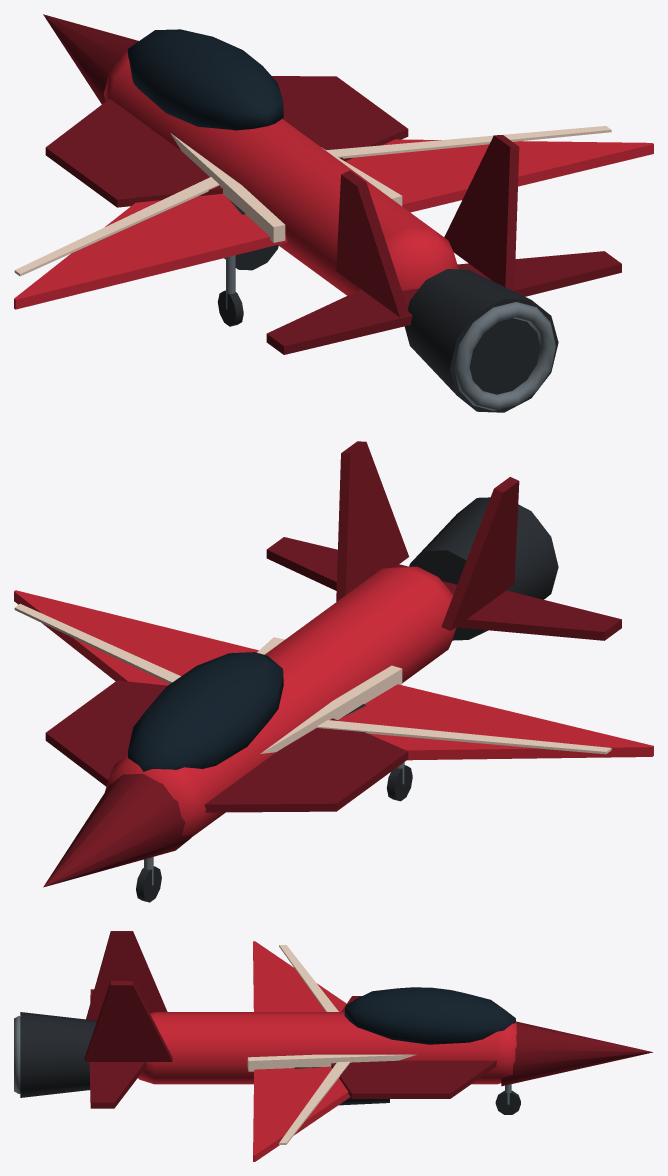
File: fighter.glb
The picture shows the model from 3 angles, top to bottom: view 1: azimuth 30°, elevation 25°; view 2: azimuth 150°, elevation 25°; view 3: azimuth 270°, elevation 25°; orthographic projection. The views are drawn at different scales.
Visible parts, largest first — view 1: AC_LIVERY_BASE, AC_LIVERY_PRIMARY, AC_DARK, AC_GLASS, AC_LIVERY_ACCENT, AC_METAL; view 2: AC_LIVERY_PRIMARY, AC_LIVERY_BASE, AC_GLASS, AC_DARK, AC_LIVERY_ACCENT; view 3: AC_LIVERY_BASE, AC_LIVERY_PRIMARY, AC_GLASS, AC_DARK, AC_LIVERY_ACCENT, AC_METAL.
Boxes of the visible parts, bbox=[...] form: AC_LIVERY_BASE: bbox=[14, 52, 653, 309]; AC_LIVERY_PRIMARY: bbox=[43, 14, 621, 354]; AC_DARK: bbox=[217, 198, 558, 412]; AC_GLASS: bbox=[128, 29, 283, 130]; AC_LIVERY_ACCENT: bbox=[14, 126, 611, 276]; AC_METAL: bbox=[226, 255, 555, 410]; AC_LIVERY_PRIMARY: bbox=[43, 441, 621, 887]; AC_LIVERY_BASE: bbox=[14, 566, 653, 836]; AC_GLASS: bbox=[128, 652, 283, 771]; AC_DARK: bbox=[136, 497, 558, 902]; AC_LIVERY_ACCENT: bbox=[14, 603, 611, 754]; AC_LIVERY_BASE: bbox=[138, 941, 516, 1161]; AC_LIVERY_PRIMARY: bbox=[84, 931, 652, 1108]; AC_GLASS: bbox=[344, 987, 515, 1044]; AC_DARK: bbox=[20, 1012, 520, 1114]; AC_LIVERY_ACCENT: bbox=[247, 945, 416, 1144]; AC_METAL: bbox=[14, 1016, 511, 1104].
Bounding box in the file's own units: 6.8 × 2.33 × 8.59.
